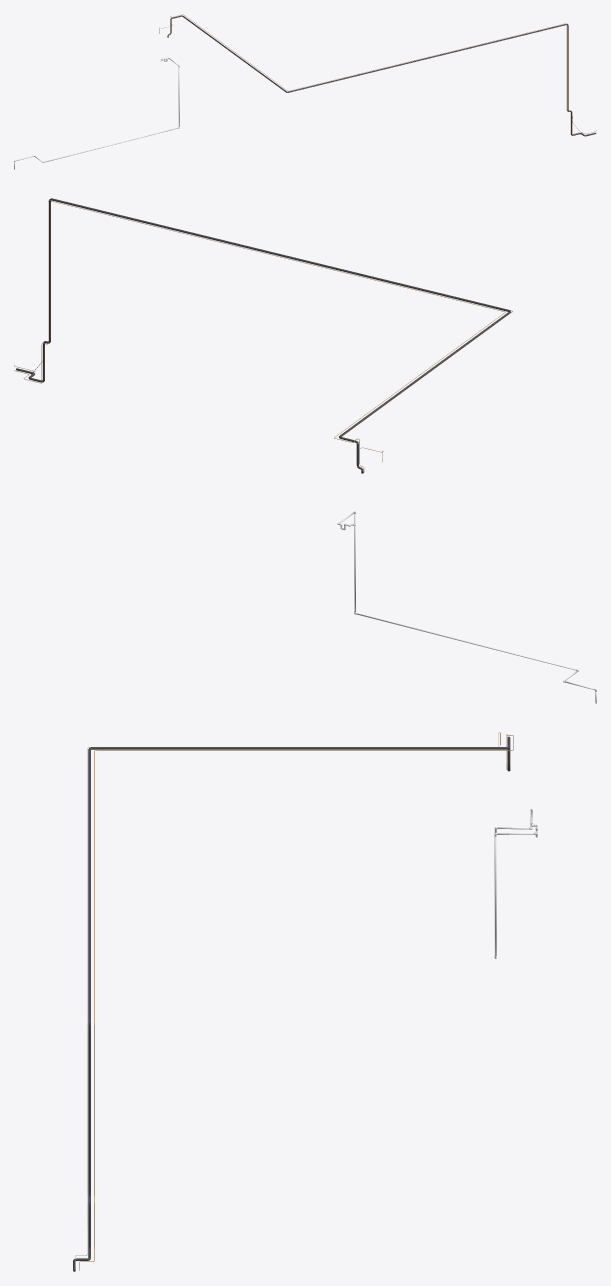
Rendered from pipes_hvac__hvac-split_furnace.glb.
3 renders of one model, top to bottom at view 1: azimuth 30°, elevation 25°; view 2: azimuth 150°, elevation 25°; view 3: azimuth 270°, elevation 25°, orthographic. The views are drawn at different scales.
Visible parts, largest first — view 1: pipe_hvac_lineset_suction_ra14ay36, pipe_hvac_lineset_liquid_ra14ay36, pipe_hvac_condensate_primary, pipe_hvac_lineset_tstat_cable_ra14ay36; view 2: pipe_hvac_lineset_suction_ra14ay36, pipe_hvac_lineset_liquid_ra14ay36, pipe_hvac_condensate_primary; view 3: pipe_hvac_lineset_suction_ra14ay36, pipe_hvac_lineset_liquid_ra14ay36.
Part boxes in pixels (left/top/right/bottom): pipe_hvac_lineset_suction_ra14ay36: left=167, top=15, right=596, bottom=136; pipe_hvac_lineset_liquid_ra14ay36: left=168, top=14, right=594, bottom=134; pipe_hvac_condensate_primary: left=14, top=57, right=179, bottom=169; pipe_hvac_lineset_tstat_cable_ra14ay36: left=159, top=16, right=596, bottom=134; pipe_hvac_lineset_suction_ra14ay36: left=16, top=198, right=510, bottom=473; pipe_hvac_lineset_liquid_ra14ay36: left=14, top=200, right=505, bottom=472; pipe_hvac_condensate_primary: left=337, top=511, right=596, bottom=703; pipe_hvac_lineset_suction_ra14ay36: left=73, top=736, right=510, bottom=1271; pipe_hvac_lineset_liquid_ra14ay36: left=79, top=734, right=513, bottom=1270.
Size of the model in its own units: 17.11 by 4.18 by 7.35.
